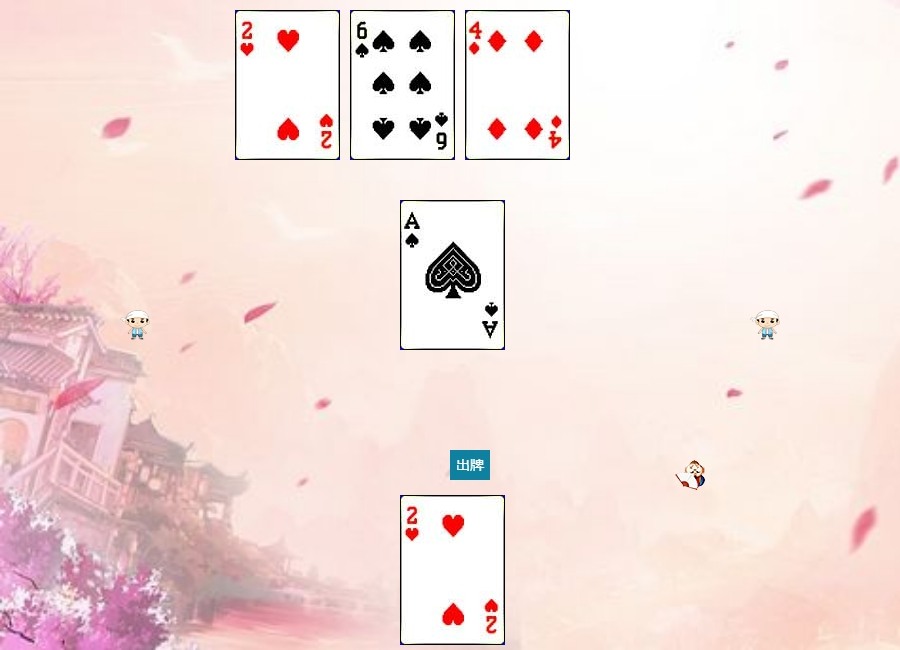14~4: (400, 200, 505, 350)
15~3: (235, 10, 340, 160), (400, 495, 505, 645)
4~1: (465, 10, 570, 160)
6~4: (350, 10, 455, 160)
